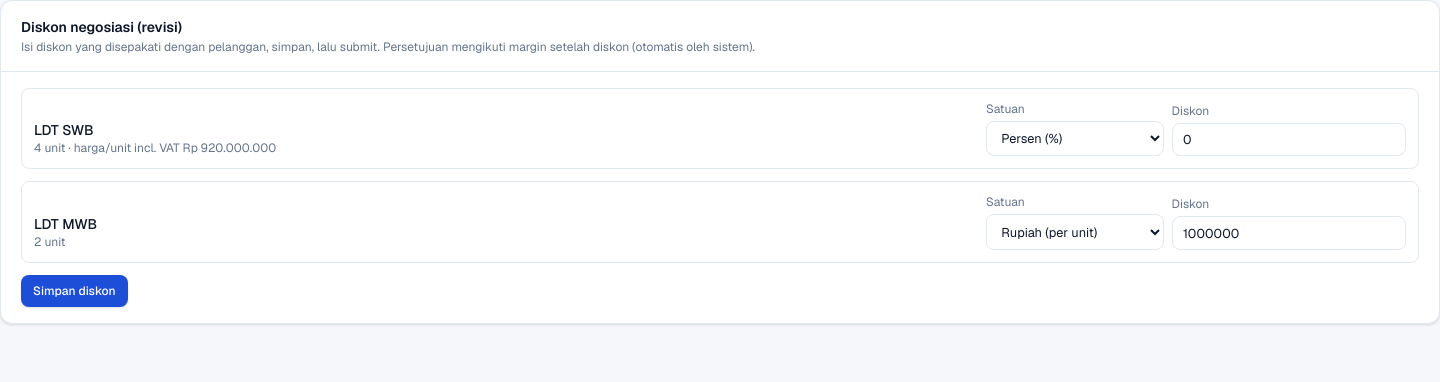
Scenario: RevisionDiscountPanel (diskon Salesperson pada draft revisi) › menampilkan kesalahan dari server
Click the button "Simpan diskon" at point(74, 291), box [21,275,128,307]
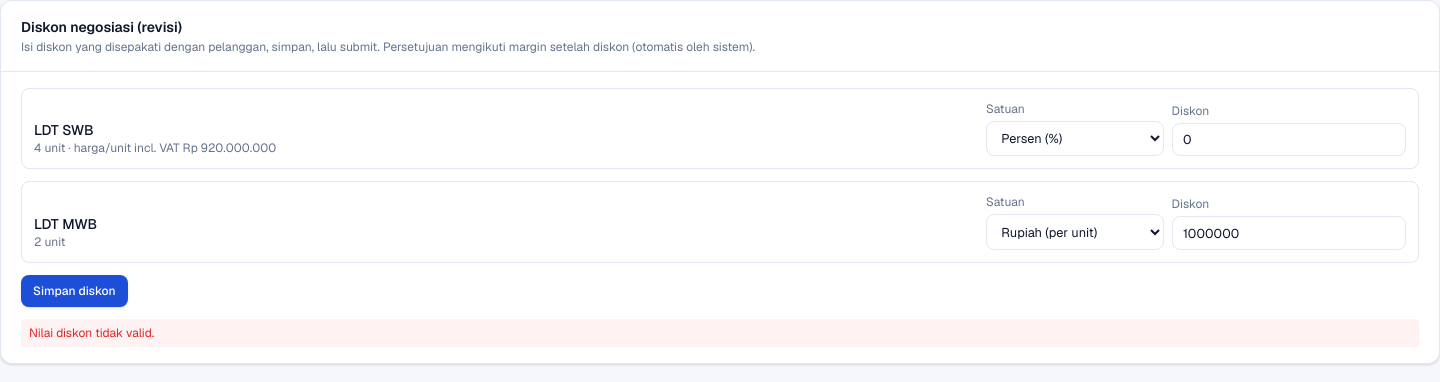
expect the text "Nilai diskon tidak valid." is shown: met, box [21,319,1419,347]
